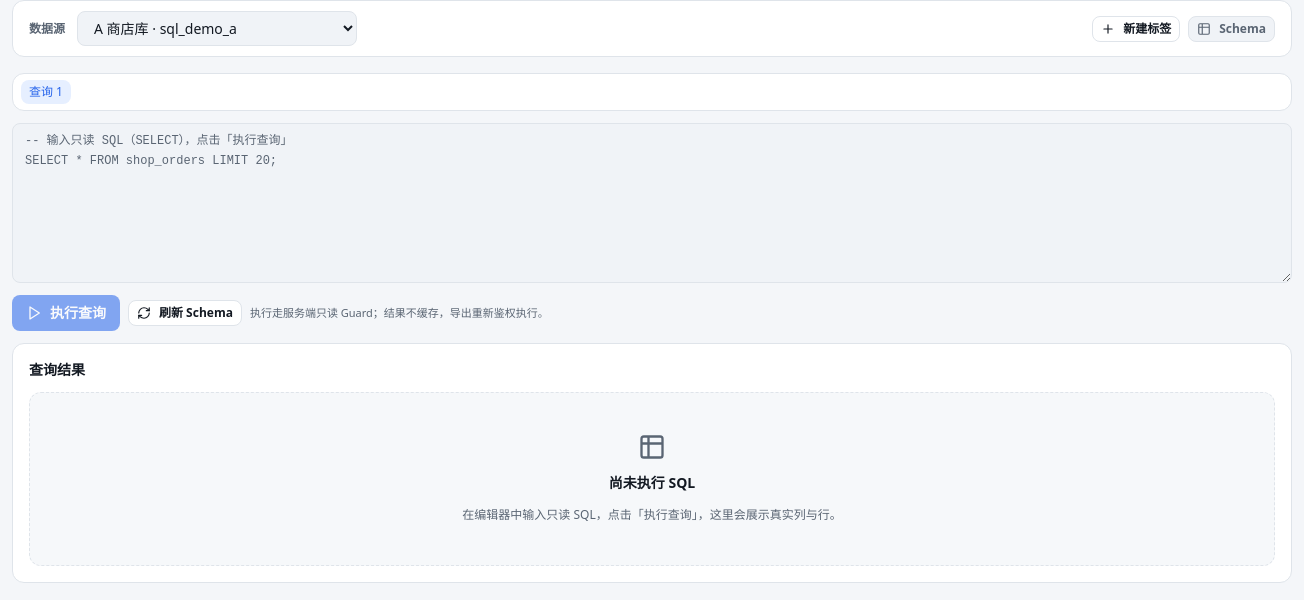
Scenario: SqlConsolePage 多标签 SQL 工作台 › 执行被 Guard 拒绝时展示错误
This screenshot has width=1304, height=600.
Expected: the dropdown labelled "数据源" is shown, [77, 11, 357, 46]
In the text box with placeholder "输入只读 SQL": {"x": 652, "y": 203} [12, 123, 1292, 283], type "DELETE FROM shop_orders"
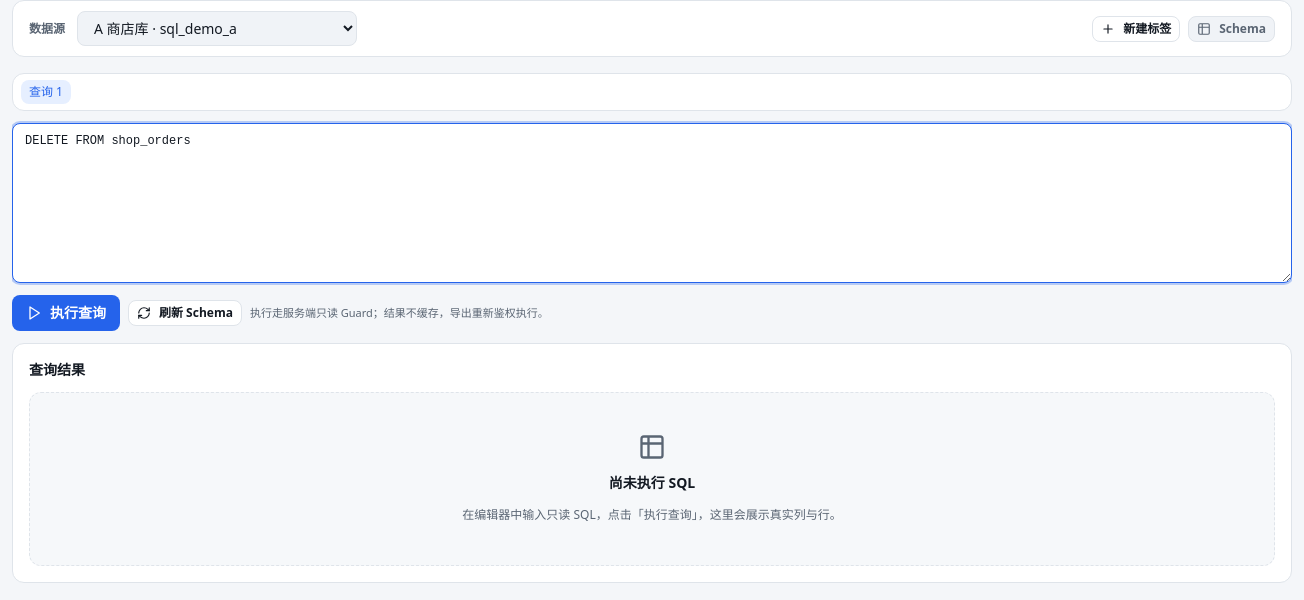
Click the button "执行查询": {"x": 66, "y": 313} [12, 295, 120, 331]
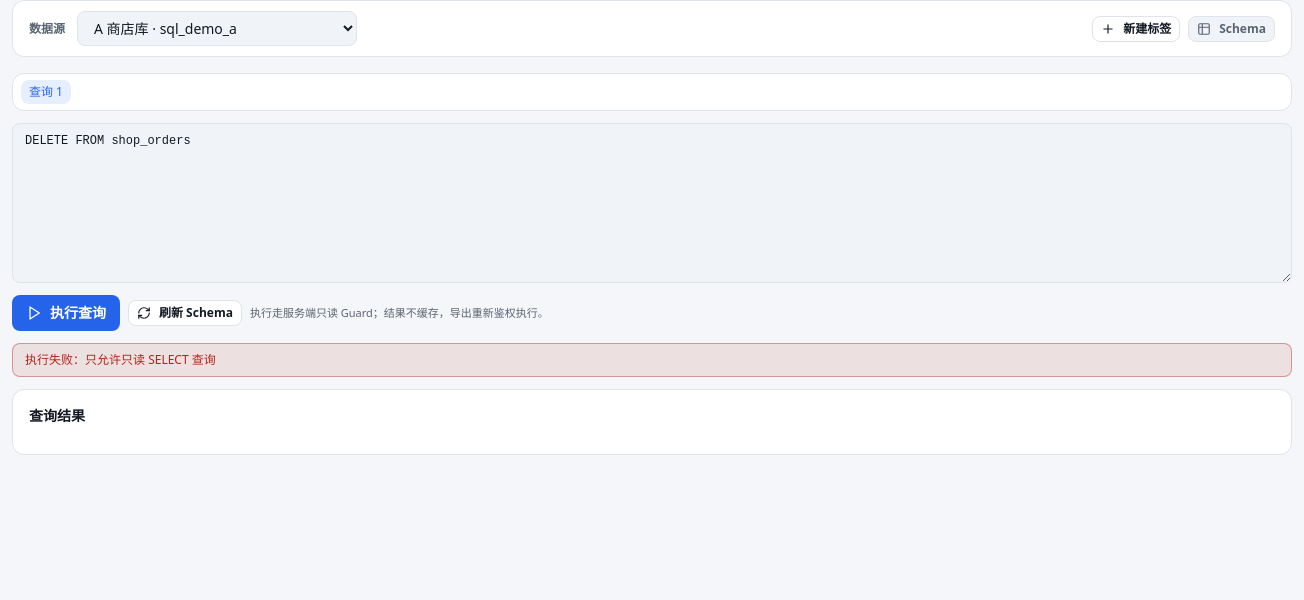
Now the text "执行失败：只允许只读 SELECT 查询" is shown, box [12, 343, 1292, 377]
